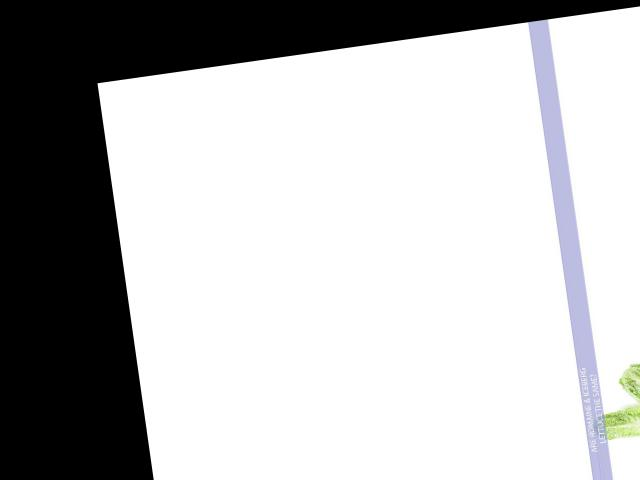lettuce: (610, 357, 640, 435)
